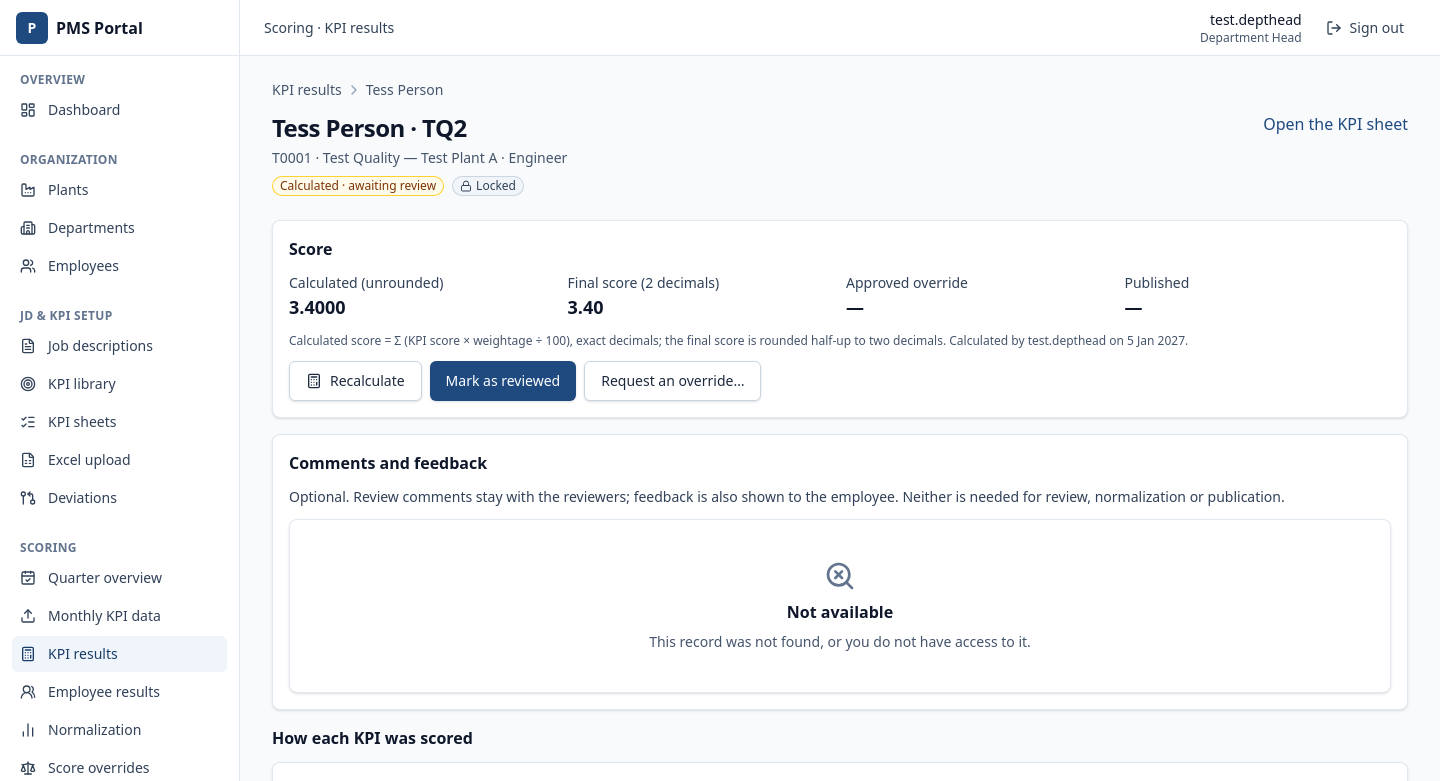
Test: quarterly results › requires a valid score and a reason for an override
The width and height of the screenshot is (1440, 781).
Click the button "Request an override…": click(673, 381) [584, 361, 762, 401]
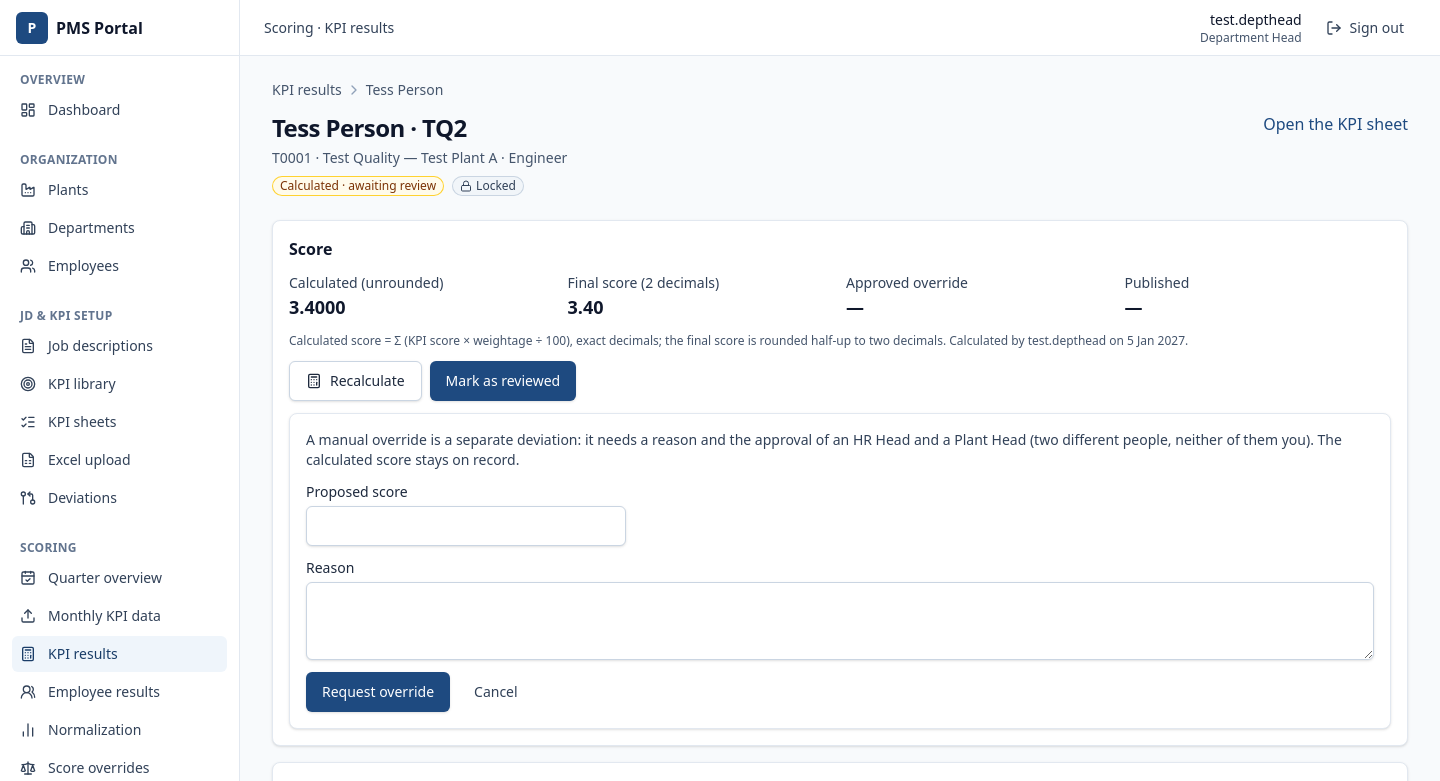
In the field labelled "Proposed score": (466, 526) [306, 506, 626, 546], type "5.5"
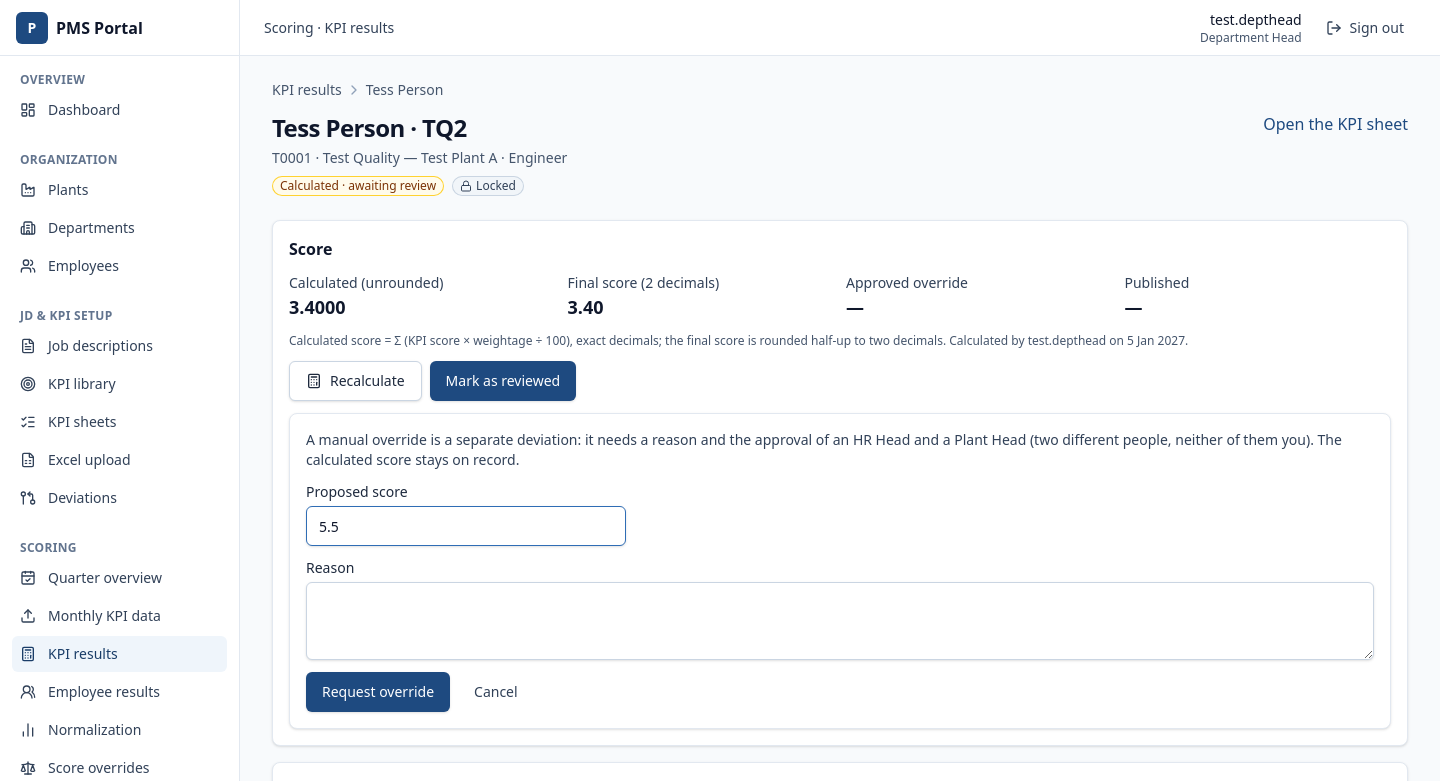
Click the button "Request override": click(378, 692) [306, 672, 450, 712]
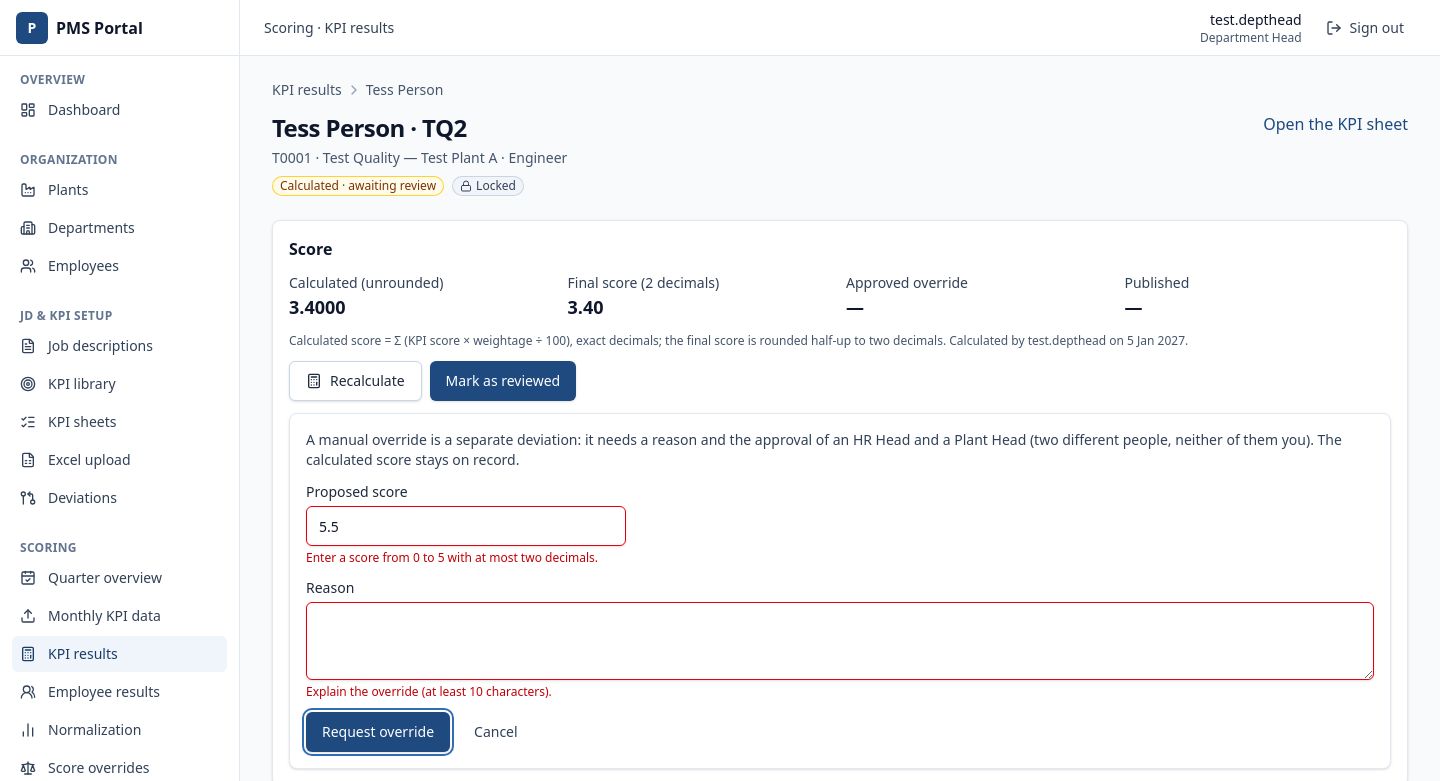
expect the text "Enter a score from 0 to 5 with at most two decimals." is shown: met, box [306, 550, 626, 566]
expect the text "Explain the override (at least 10 characters)." is shown: met, box [306, 683, 552, 700]
Replace the text in the field labelled "Proposed score" with "3.75": (466, 526) [306, 506, 626, 546]
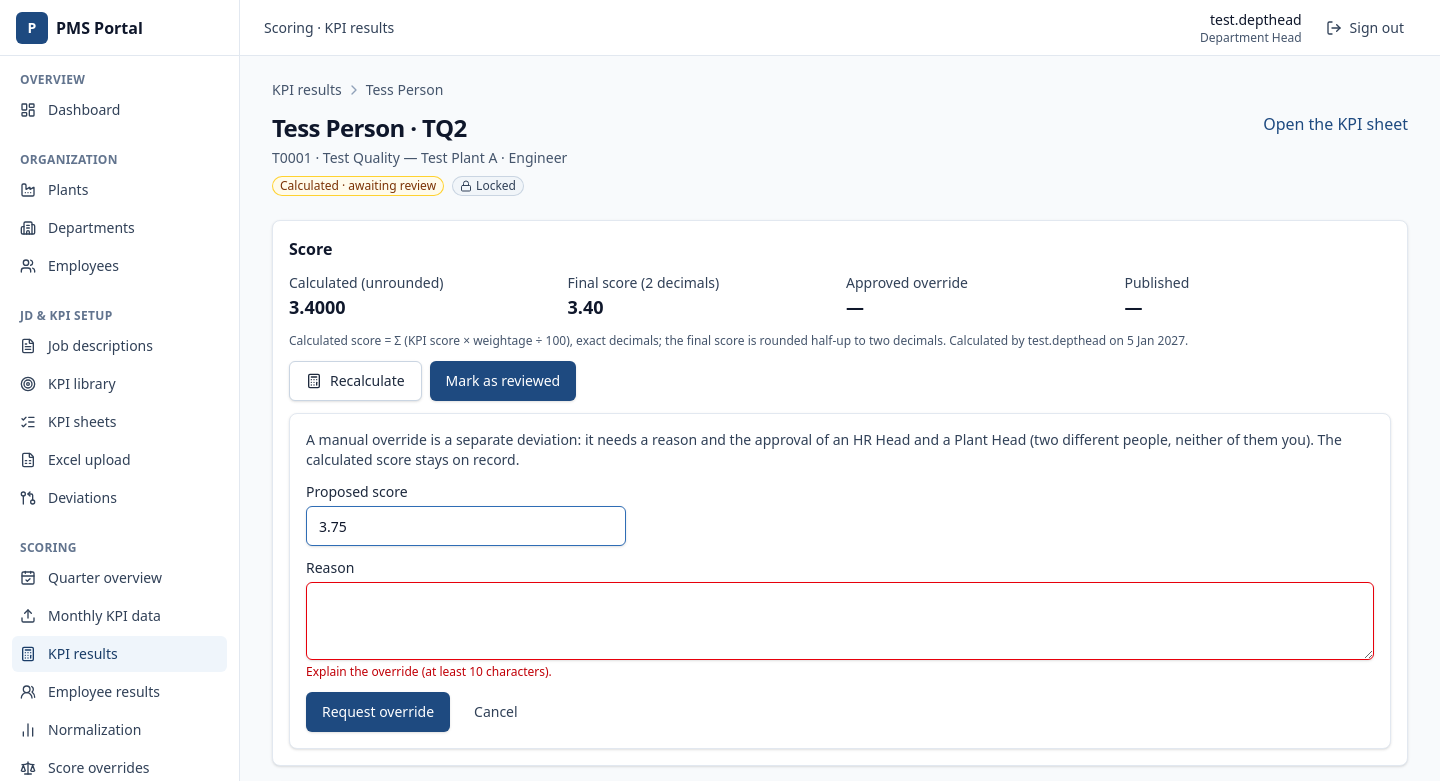
In the text box labelled "Reason": (840, 621) [306, 582, 1374, 660], type "Customer audit postponed by the client"
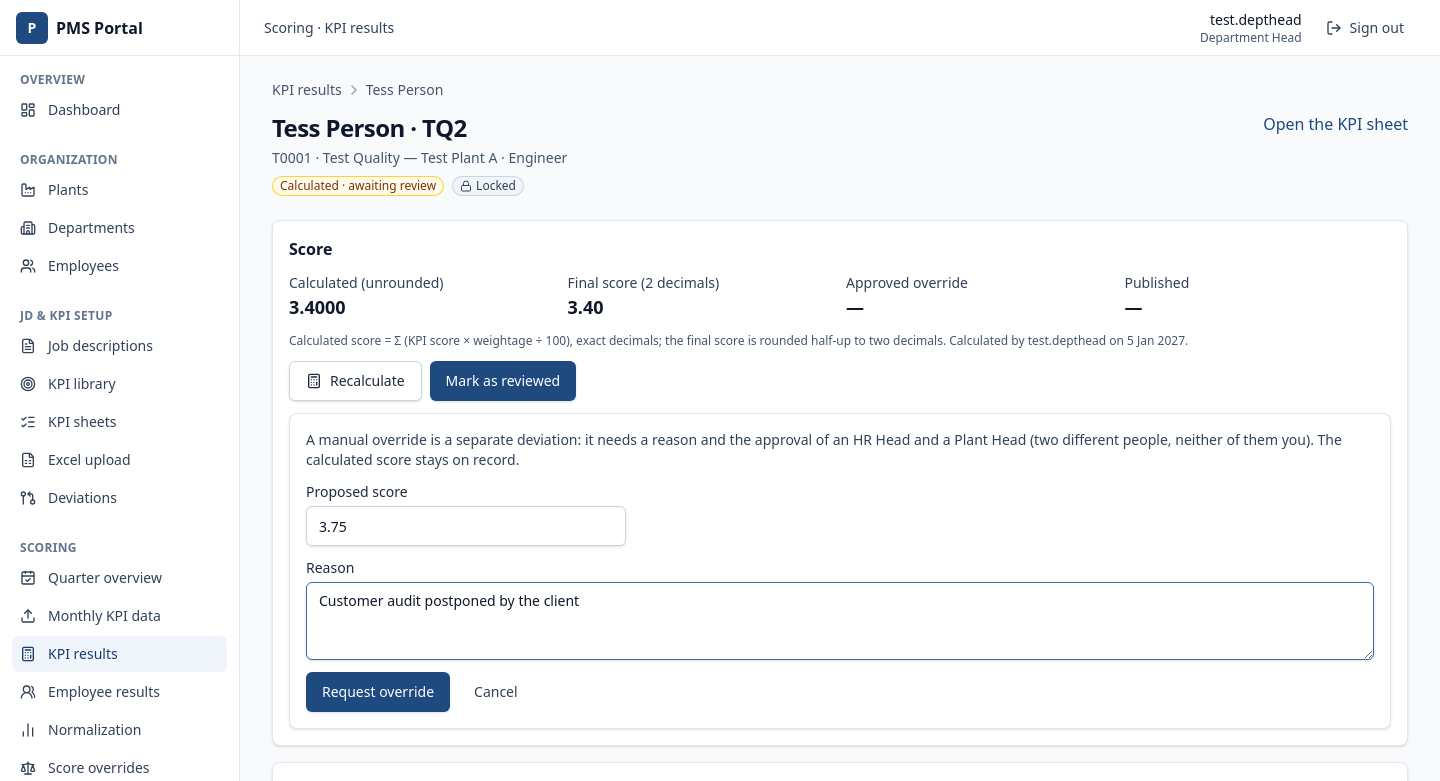
Click the button "Request override": click(378, 692) [306, 672, 450, 712]
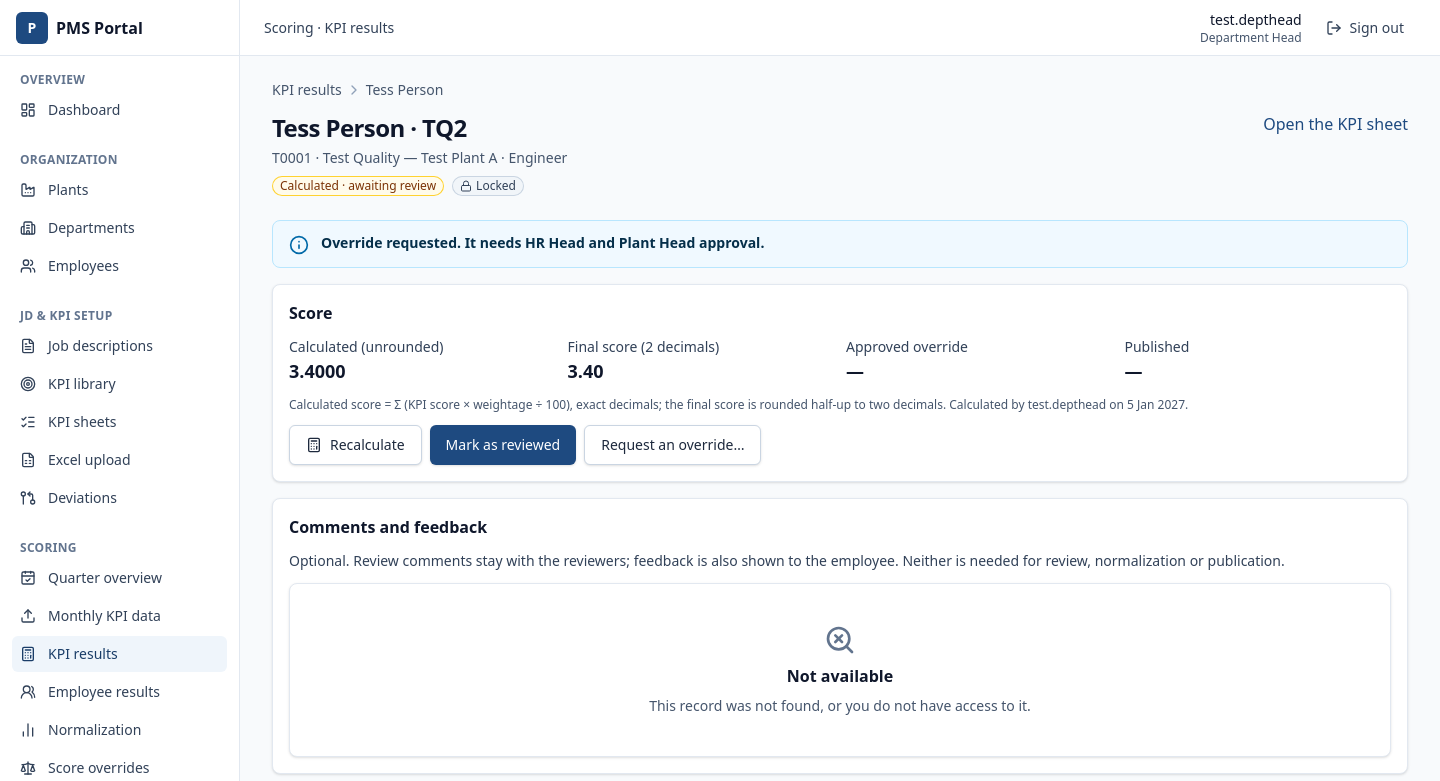
expect the text "Override requested" is shown: met, box [321, 233, 764, 252]
